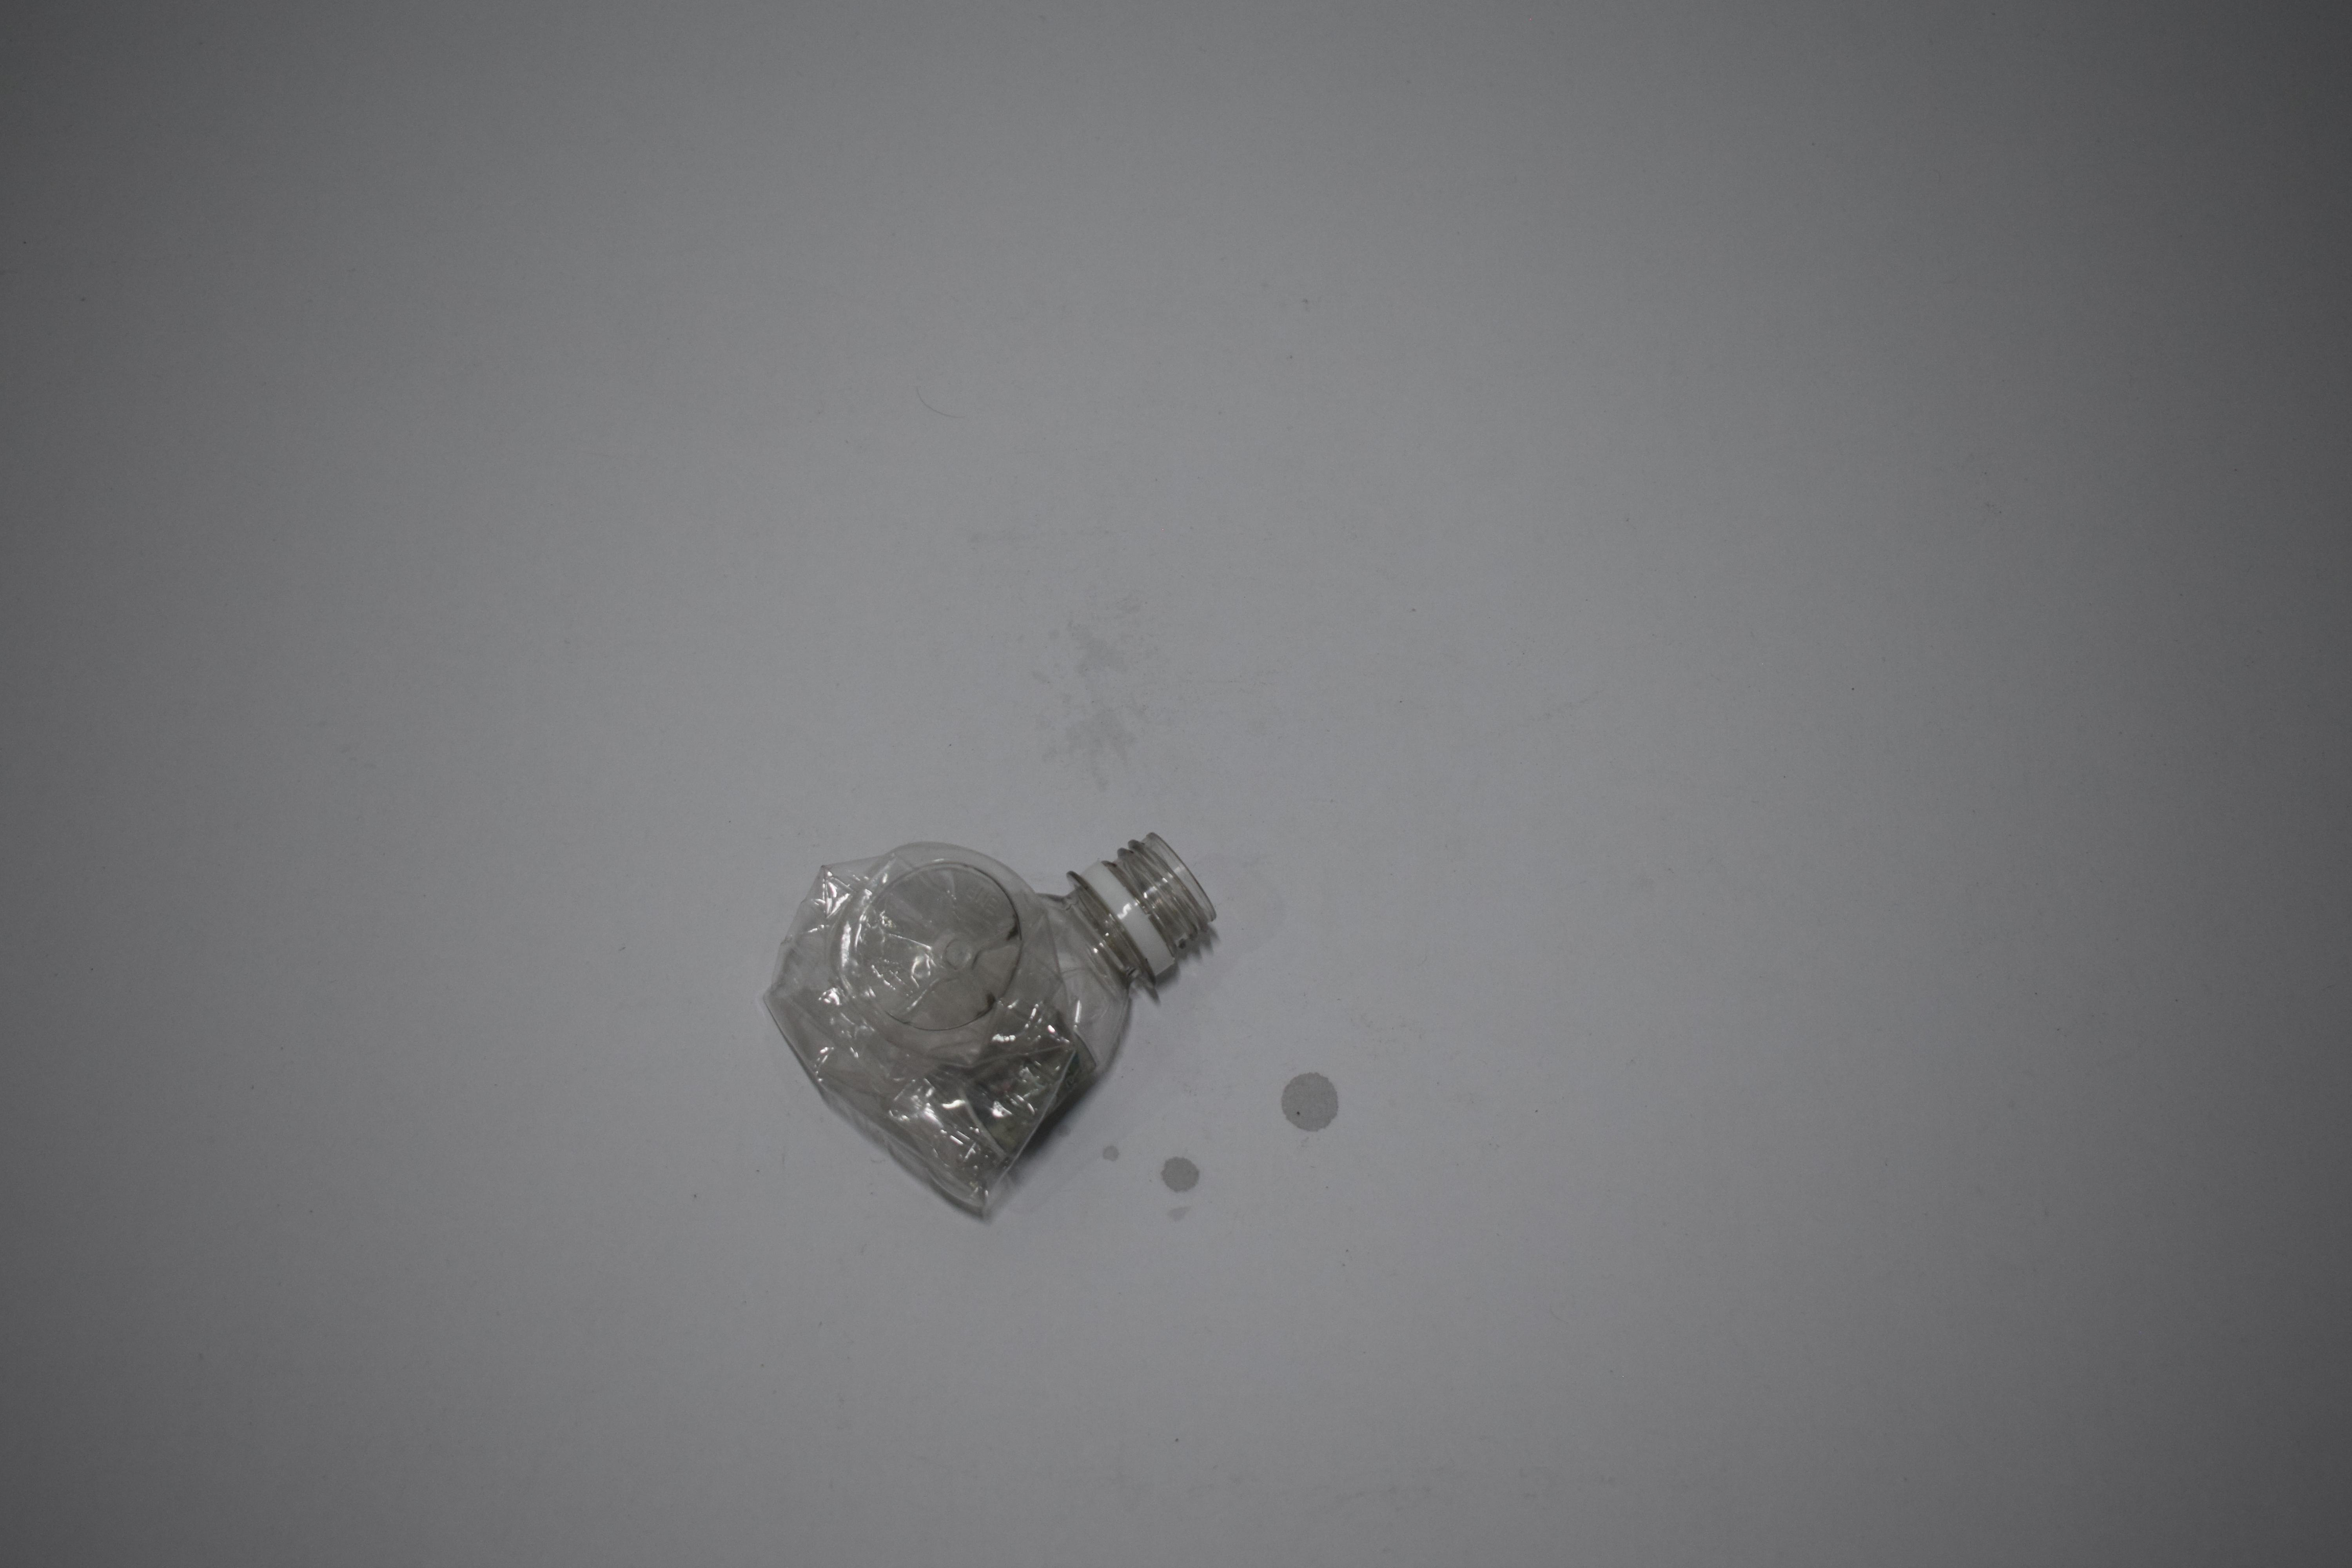bottle: (768, 737, 1216, 1145)
